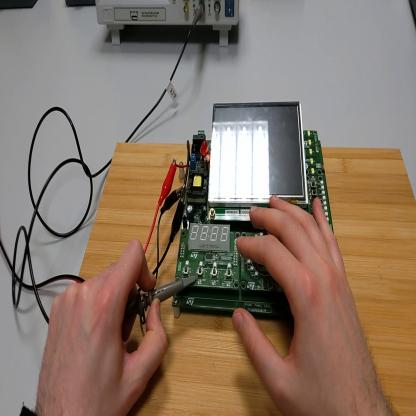hand: (234, 196, 384, 416), (36, 236, 169, 416)
low voltage board: (172, 103, 334, 321)
oscilloscope: (97, 4, 242, 50)
oscilloscope probe tip: (126, 274, 199, 327)
socket: (2, 2, 38, 10), (67, 2, 95, 9)
working area: (78, 138, 416, 416)
